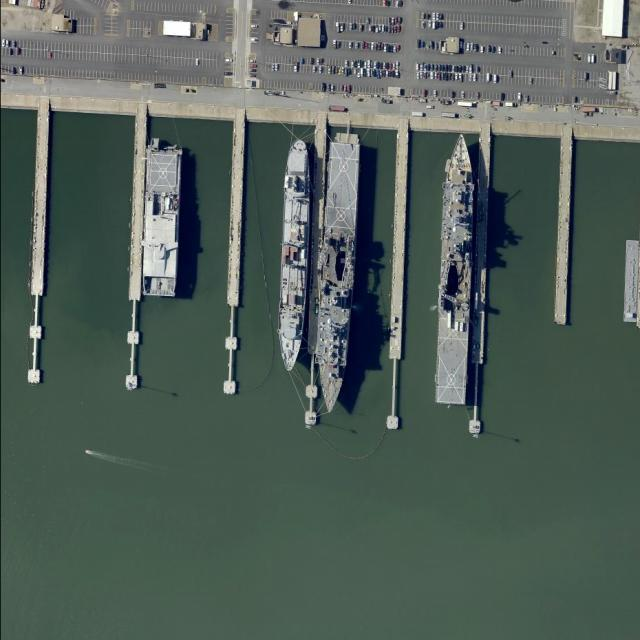Auxiliary Ships: (141, 140, 182, 297)
Cargo: (274, 138, 314, 372)
Dock: (302, 126, 328, 425), (387, 127, 410, 429), (125, 117, 149, 387), (467, 133, 488, 434), (28, 105, 50, 381), (224, 120, 245, 394), (554, 140, 573, 324)
Landing: (312, 132, 363, 413), (432, 132, 478, 406)
